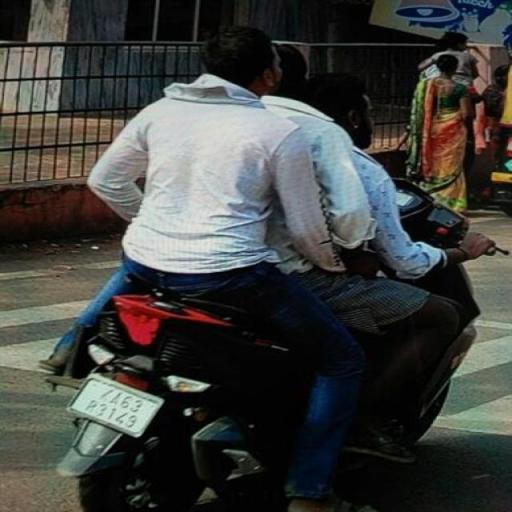tripple riding: (72, 22, 478, 304)
